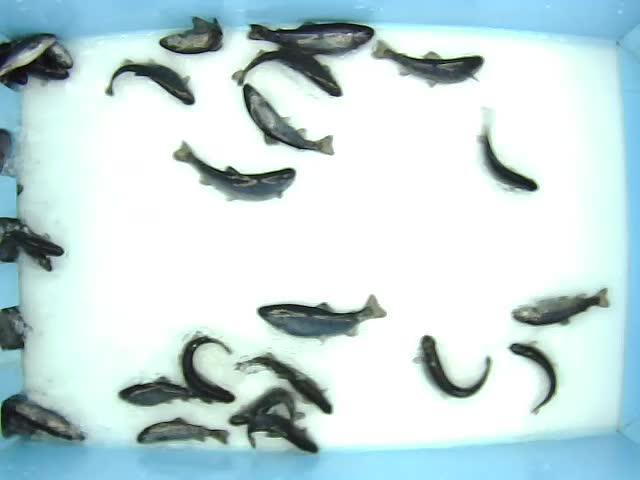fish: (172, 139, 297, 203), (241, 83, 335, 156), (255, 293, 387, 344), (233, 351, 334, 415), (470, 106, 539, 194), (371, 36, 487, 88), (230, 48, 344, 98), (413, 335, 493, 400), (246, 19, 377, 57), (177, 328, 237, 407), (105, 57, 198, 107), (509, 285, 610, 327), (507, 339, 560, 418), (244, 411, 321, 455), (227, 385, 306, 427), (135, 415, 230, 446), (157, 16, 225, 55), (116, 375, 195, 408)
